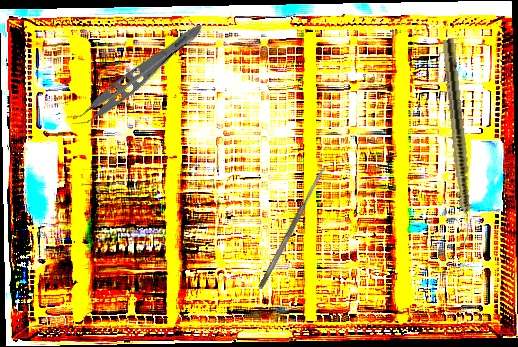Handpiece: (439, 38, 477, 248)
Spatula Surgical: (256, 164, 329, 291)
Tissue Forceps: (65, 11, 207, 137)
